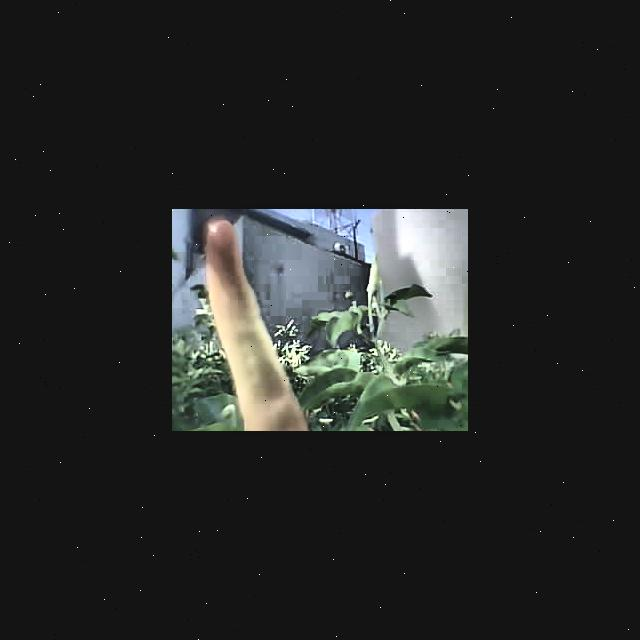Cabai: (199, 227, 342, 431)
